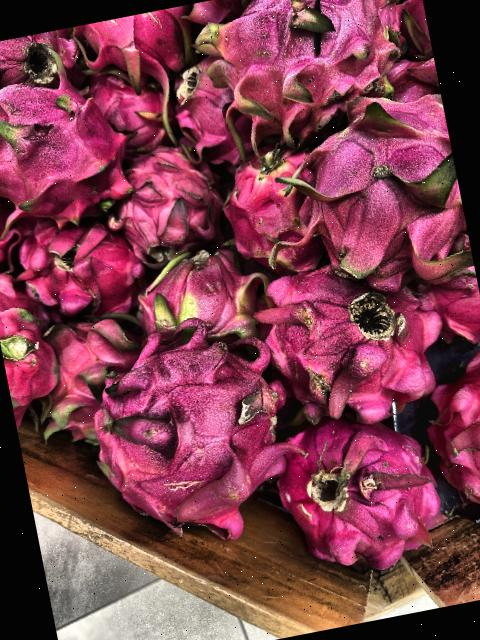buah-naga-belum-matang: (126, 238, 278, 356)
buah-naga-matang: (74, 306, 311, 540), (242, 239, 452, 436), (253, 382, 450, 578), (290, 94, 476, 301), (195, 0, 403, 132), (0, 60, 143, 240), (214, 138, 345, 282), (37, 303, 157, 450), (99, 138, 227, 271), (12, 212, 142, 328), (159, 52, 264, 172), (72, 3, 202, 92), (418, 349, 480, 532), (0, 277, 67, 438), (82, 59, 185, 158), (0, 25, 87, 108)
